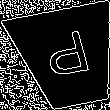P_S: (39, 29, 96, 86)
